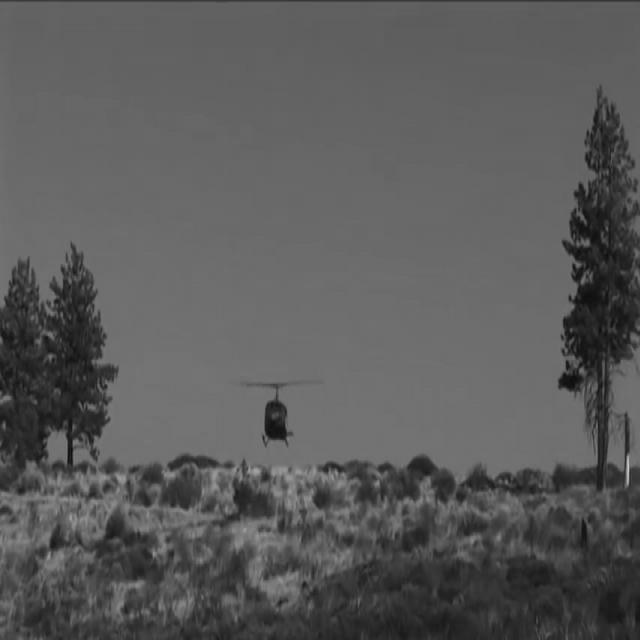helikopter: (233, 364, 320, 468)
